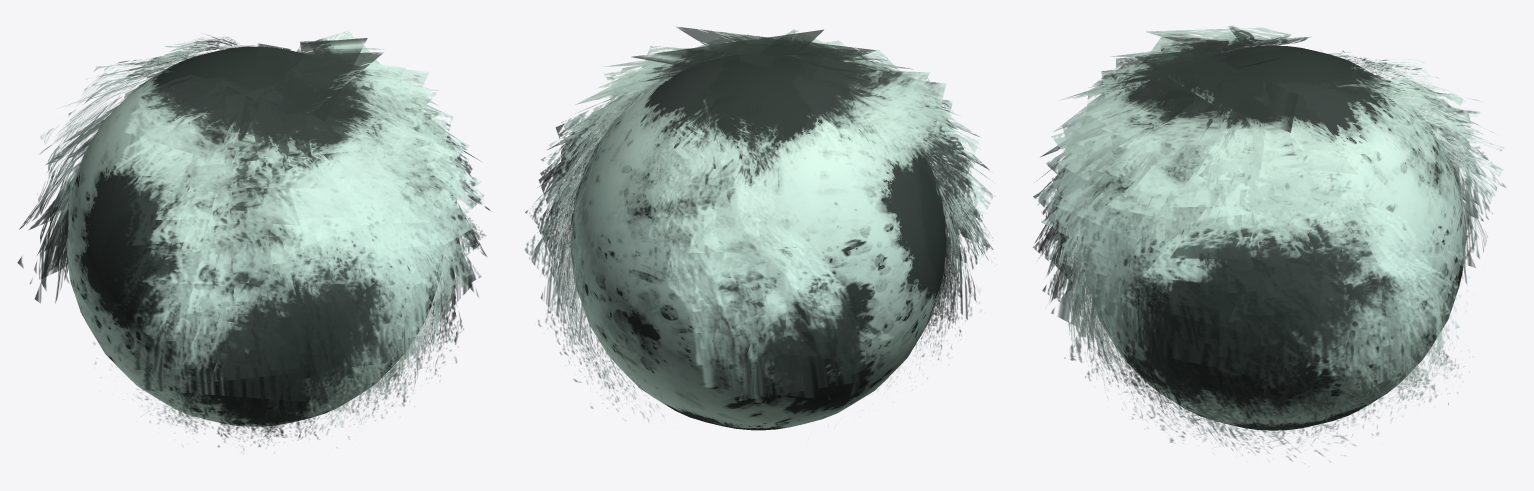
Rendered from very_dirty_furry_ball.glb.
3 views of the same model, side by side, from view 1: azimuth 30°, elevation 25°; view 2: azimuth 150°, elevation 25°; view 3: azimuth 270°, elevation 25° (orthographic). The views are drawn at different scales.
Parts seen in each view (by area): view 1: fn.001; view 2: fn.001; view 3: fn.001.
Boxes of the visible parts, left/top/right/bottom form: fn.001: left=17, top=30, right=490, bottom=450; fn.001: left=524, top=26, right=995, bottom=430; fn.001: left=1033, top=25, right=1506, bottom=461.
Size of the model in its own units: 2.52 by 2.29 by 2.53.
3 materials, 3 textured.
